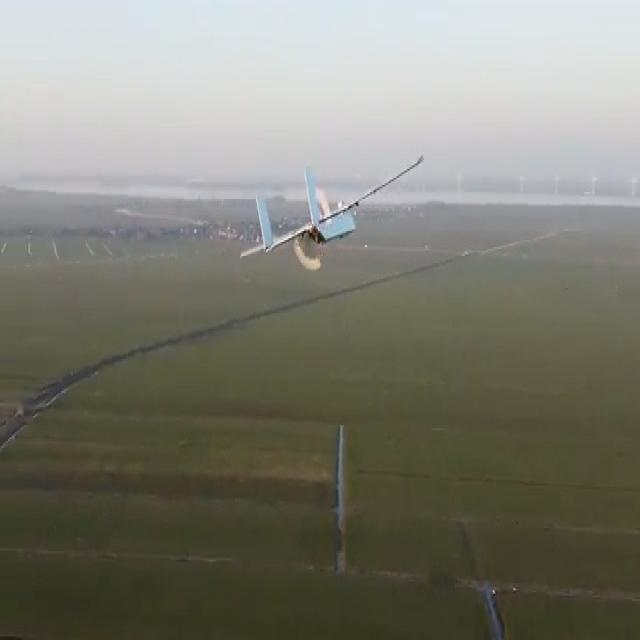iha: (245, 187, 429, 245)
